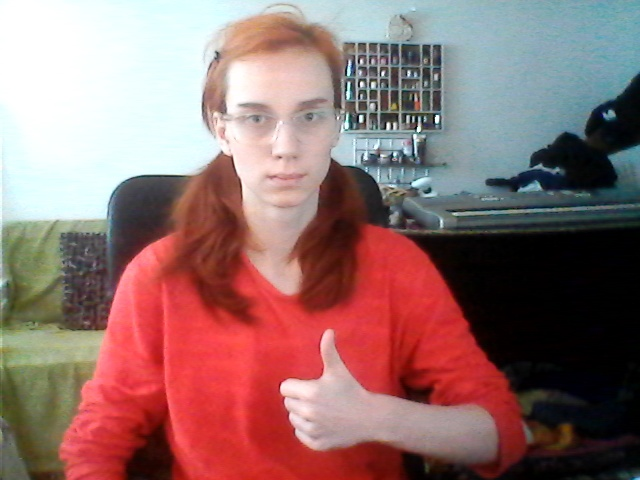jeden: (272, 325, 367, 454)
